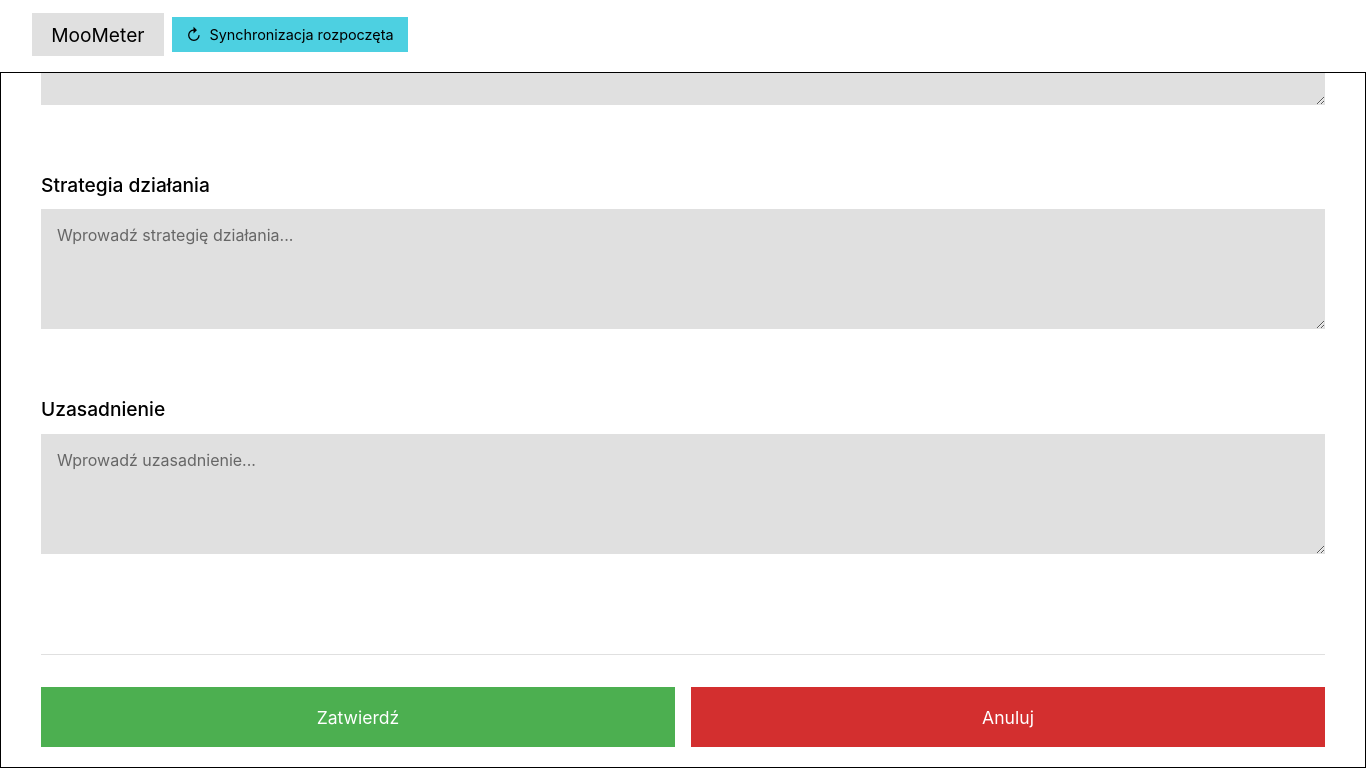
Scenario: RecommendationsReview › should disable buttons during saving
(page scrolled)
What coordinates should you click on to do the following:
click the button "Zatwierdź"
I would click on:
 (358, 717)
Its box is [41, 687, 675, 747].
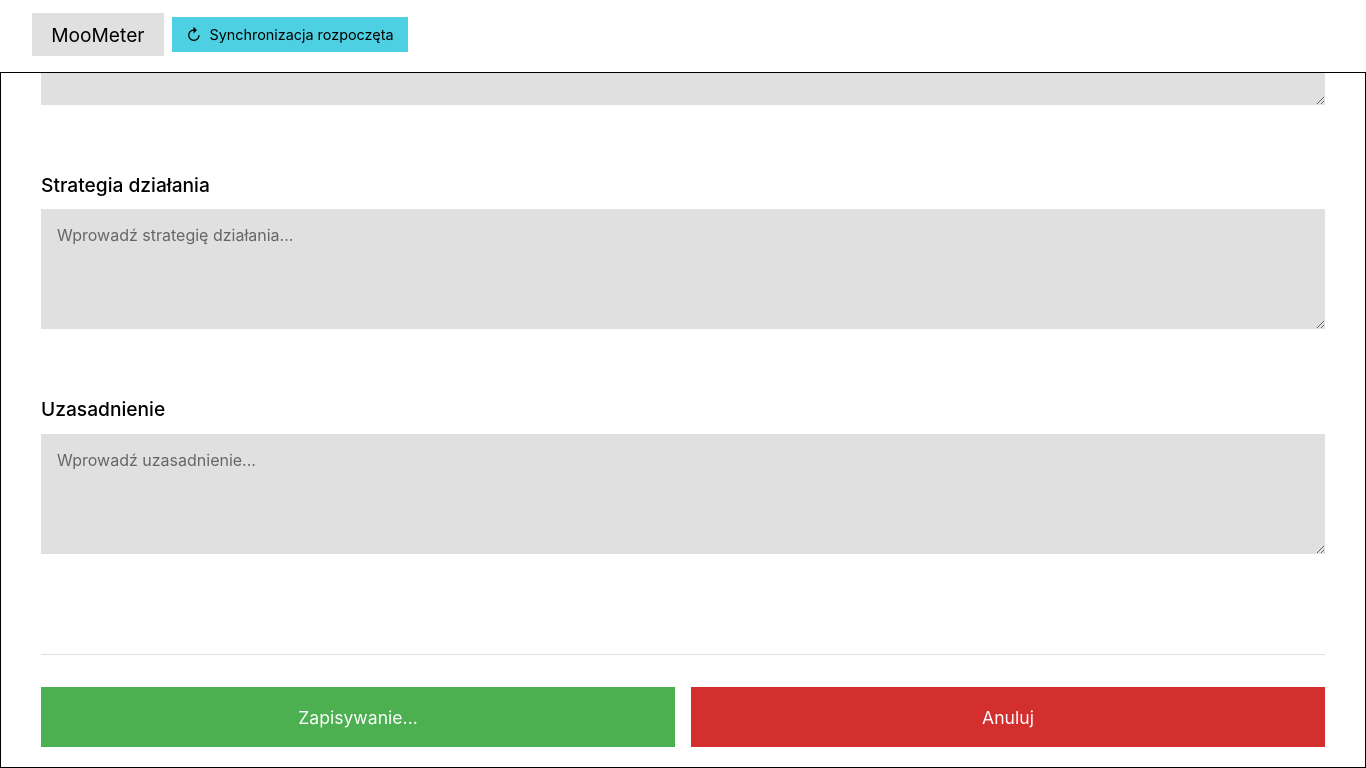
Expected: the button "Anuluj" is disabled, [691, 687, 1325, 747]
Expected: the button named "Zatwierdź" is disabled, [41, 687, 675, 747]
